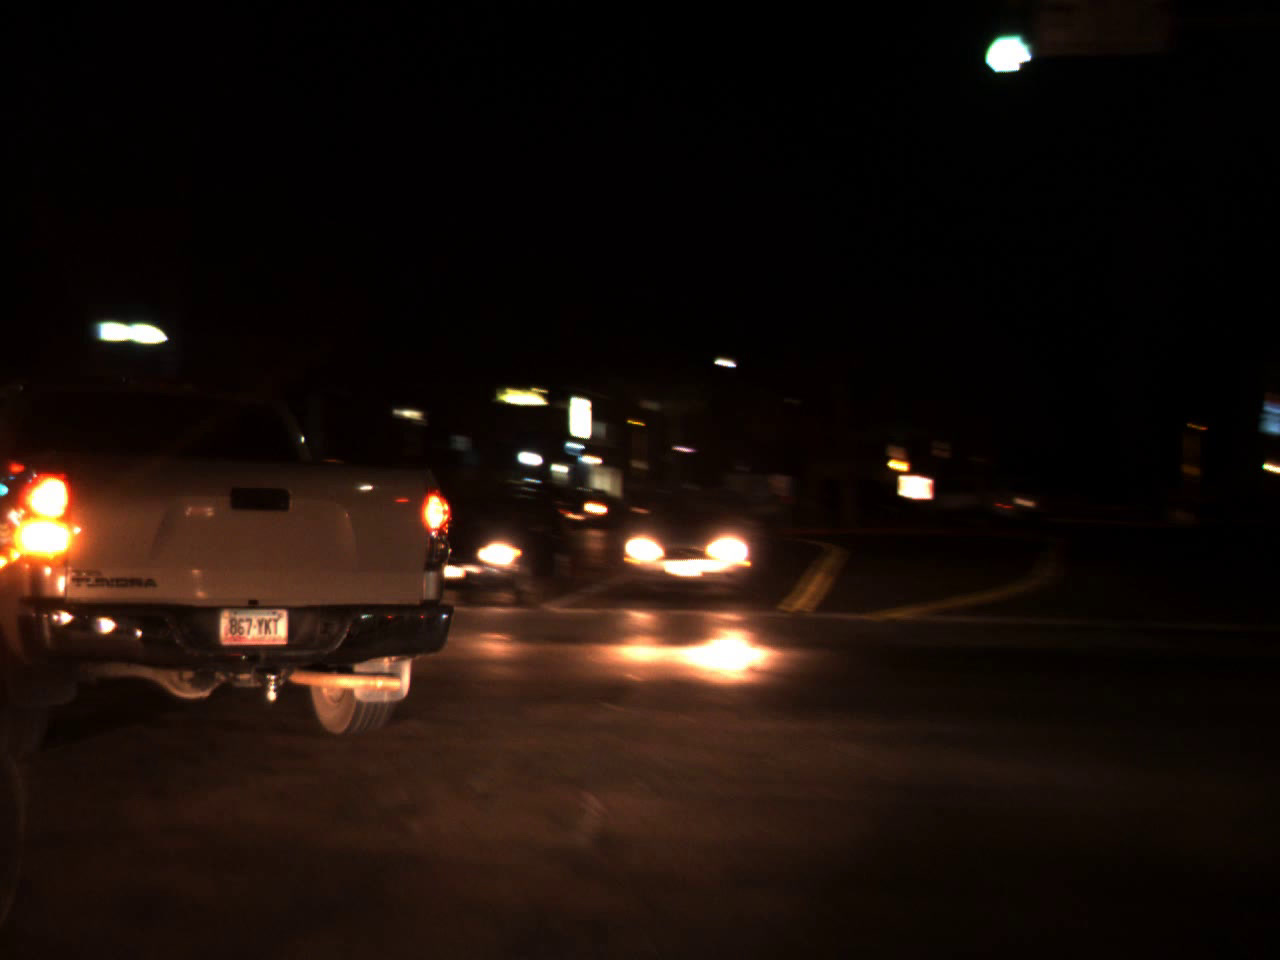go: (957, 0, 1050, 92)
